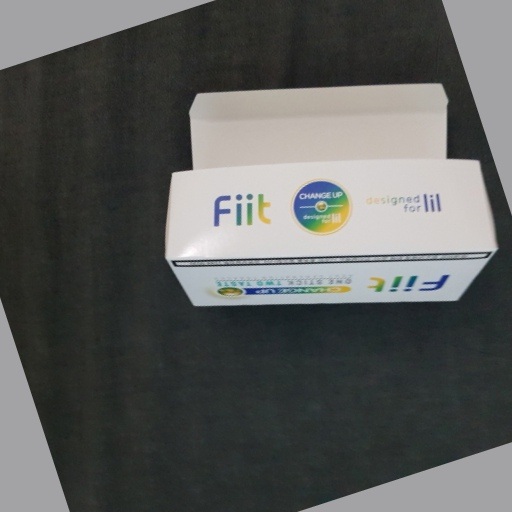Paper_0: (162, 77, 498, 306)
